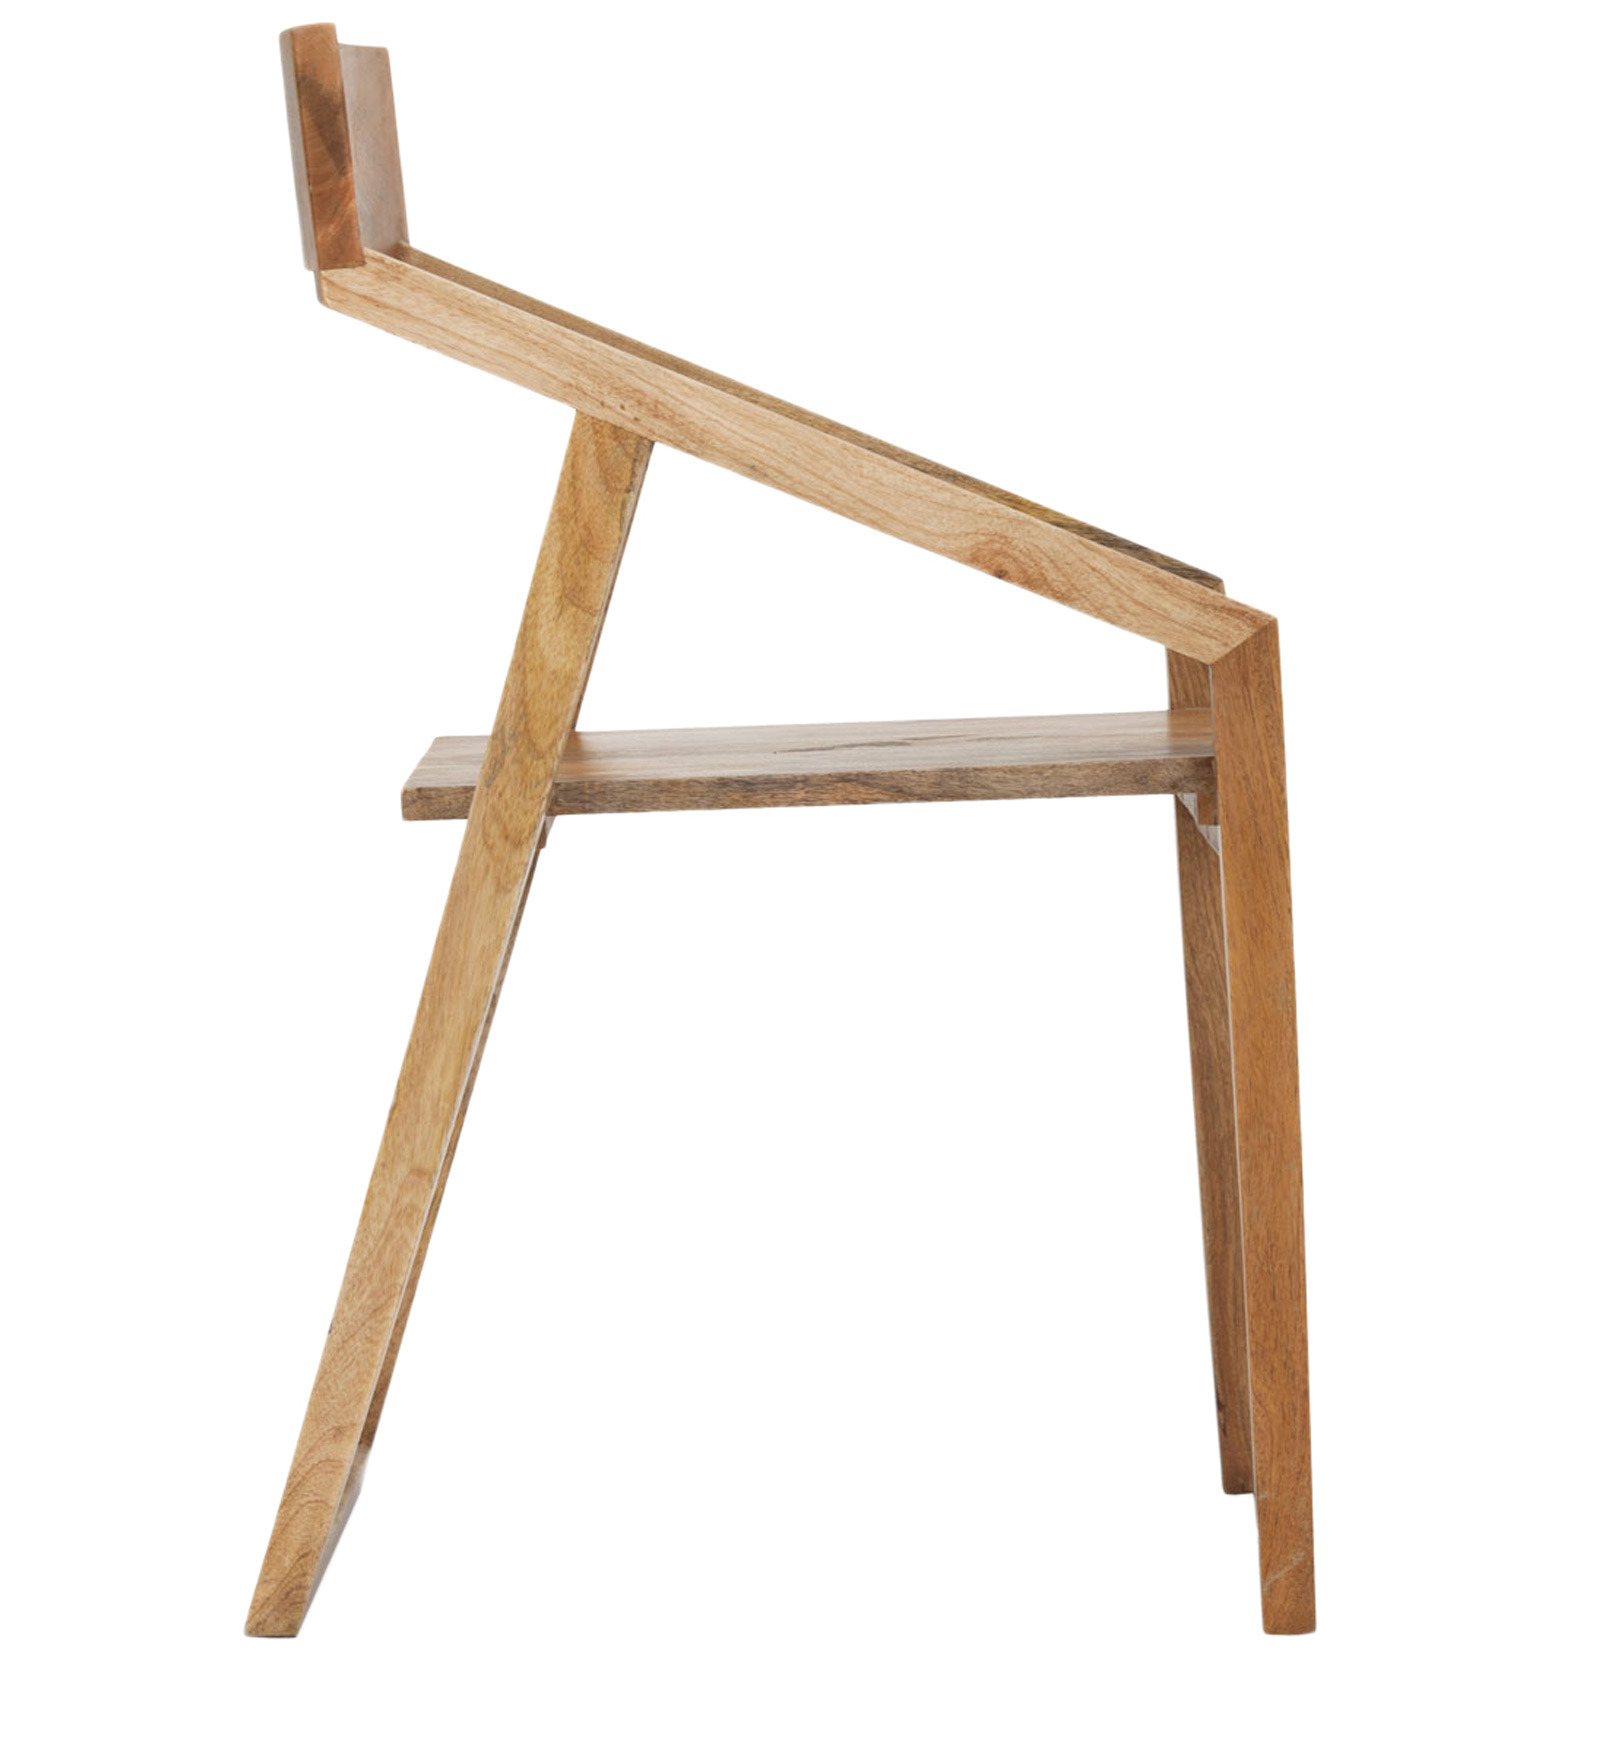Dulwich Solid Wood Arm Chair in Natural Finish by TheArmchair: (92, 26, 1503, 1748)
